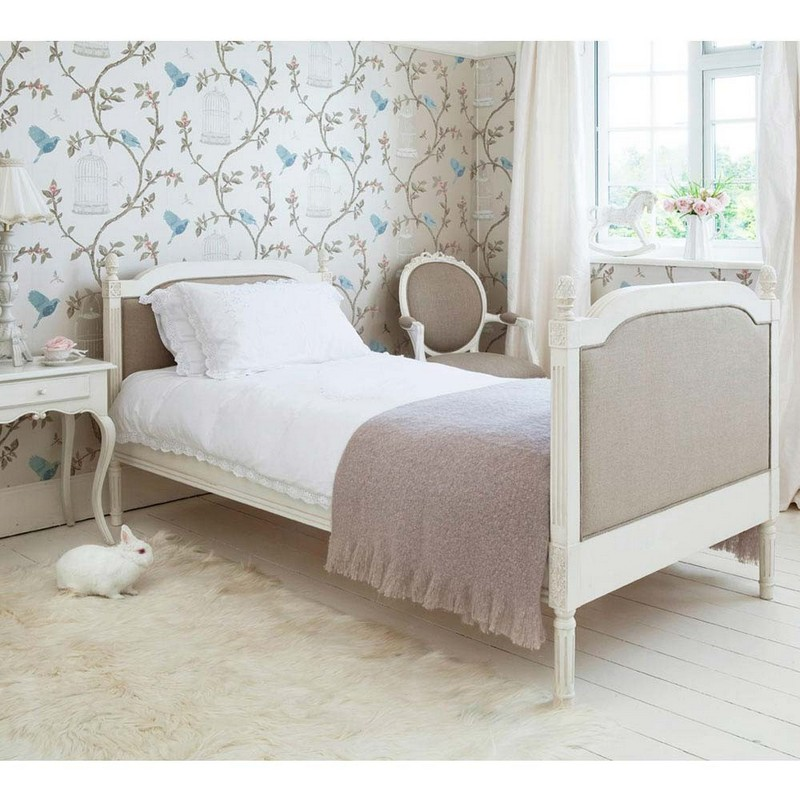bed: (96, 237, 785, 696)
chair: (385, 247, 554, 389)
table: (2, 347, 134, 541)
